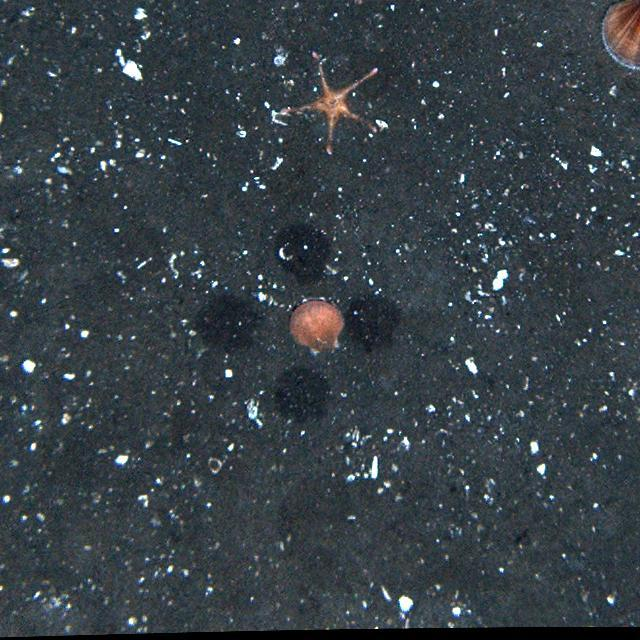scallop: (282, 298, 346, 357), (595, 0, 640, 72)
